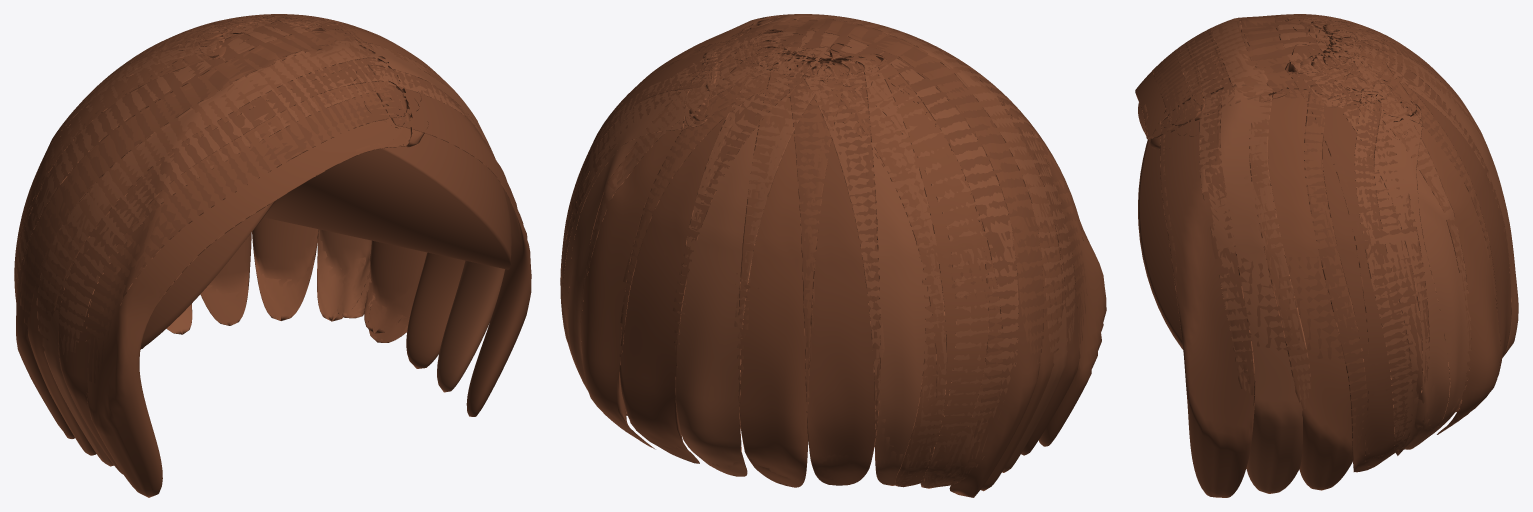
File: Feminine-bob-covered248-hair.glb
3 views of the same model, side by side, from view 1: azimuth 30°, elevation 25°; view 2: azimuth 150°, elevation 25°; view 3: azimuth 270°, elevation 25° (orthographic). The views are drawn at different scales.
Visible parts, largest first — view 1: 226 hair / Hair / sculpted 0.001, 226 hair / Hair / sculpted 1.001, 226 hair / Hair / sculpted 2.001, 226 hair / Hair / sculpted 1.002; view 2: 226 hair / Hair / sculpted 0.001, 226 hair / Hair / sculpted 2.001, 226 hair / Hair / sculpted 1.001, 226 hair / Hair / sculpted 1.002; view 3: 226 hair / Hair / sculpted 1.001, 226 hair / Hair / sculpted 2.001, 226 hair / Hair / sculpted 0.001, 226 hair / Hair / sculpted 1.002.
Part boxes in pixels (x1,y1,x2,y2): 226 hair / Hair / sculpted 0.001: (14, 14, 477, 497); 226 hair / Hair / sculpted 1.001: (14, 14, 531, 474); 226 hair / Hair / sculpted 2.001: (14, 14, 504, 466); 226 hair / Hair / sculpted 1.002: (24, 133, 511, 349); 226 hair / Hair / sculpted 0.001: (580, 14, 1106, 491); 226 hair / Hair / sculpted 2.001: (560, 14, 1075, 488); 226 hair / Hair / sculpted 1.001: (560, 14, 1087, 497); 226 hair / Hair / sculpted 1.002: (576, 163, 1074, 323); 226 hair / Hair / sculpted 1.001: (1153, 14, 1511, 497); 226 hair / Hair / sculpted 2.001: (1176, 14, 1518, 493); 226 hair / Hair / sculpted 0.001: (1135, 14, 1500, 490); 226 hair / Hair / sculpted 1.002: (1138, 102, 1498, 388).
Size of the model in its own units: 0.9591 by 0.8015 by 0.7287.
